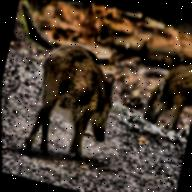boar: (5, 10, 154, 189), (135, 40, 192, 137)
